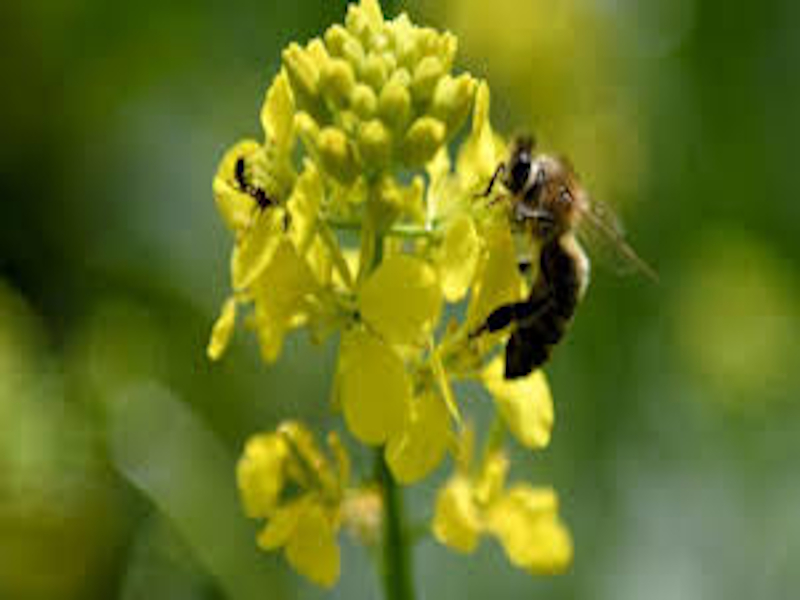abeja: (476, 131, 660, 384)
